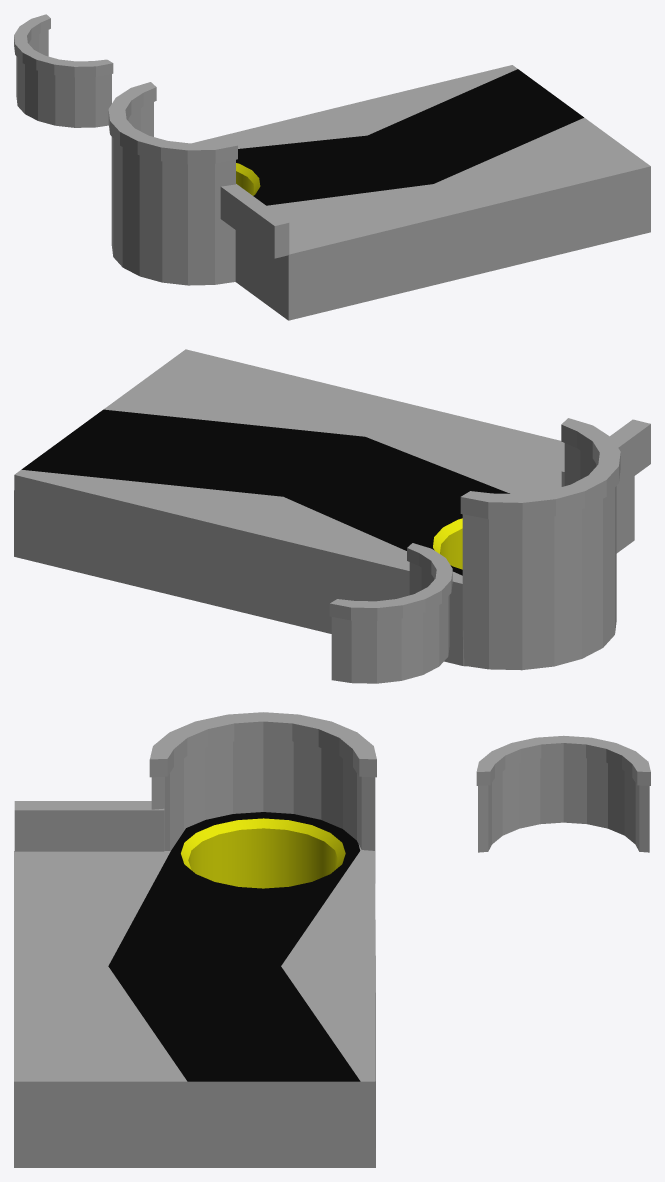
The model's file is bilardo yolu delikler3.fbx.
3 renders of one model, top to bottom at view 1: azimuth 30°, elevation 25°; view 2: azimuth 150°, elevation 25°; view 3: azimuth 270°, elevation 25°, orthographic. The views are drawn at different scales.
Visible parts, largest first — view 1: Box052, polySurface3, polySurface5, polySurface4; view 2: Box052, polySurface3, polySurface5, polySurface4; view 3: Box052, polySurface3, polySurface5, polySurface4.
Boxes of the visible parts, x1,y1,x2,y2 form: Box052: (192,65,650,320); polySurface3: (108,82,237,285); polySurface5: (14,14,113,127); polySurface4: (220,184,289,258); Box052: (14,349,634,666); polySurface3: (460,418,620,670); polySurface5: (329,543,452,683); polySurface4: (561,419,650,488); Box052: (14,812,375,1167); polySurface3: (149,712,376,883); polySurface5: (476,735,650,852); polySurface4: (14,801,164,851).
Size of the model in its own units: 269 by 80.6 by 261.
